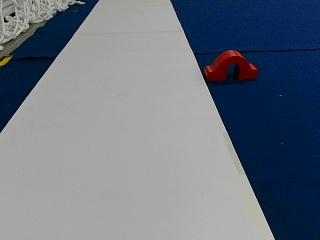bridge: (206, 50, 257, 79)
